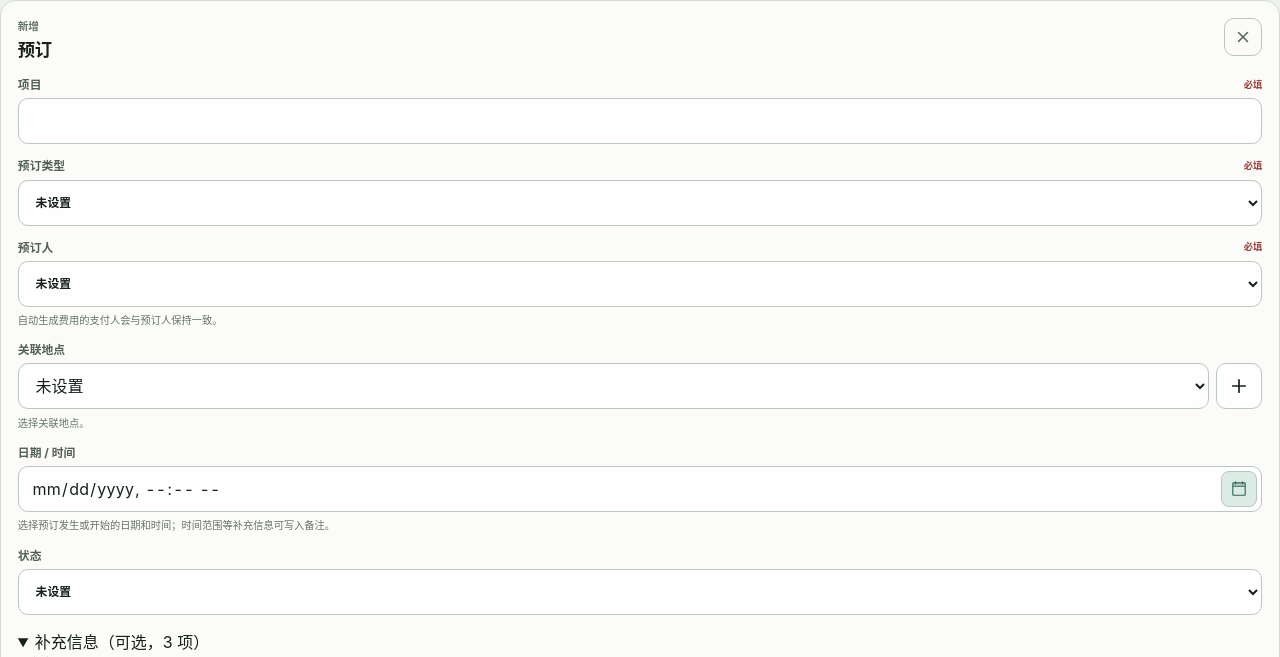
RecordForm 地点快捷创建 › 预订创建地点后立即加入选项并自动选中
Click the button named "新增地点并选为关联地点". click: (1239, 386)
box: x1=1216 y1=363 x2=1262 y2=410
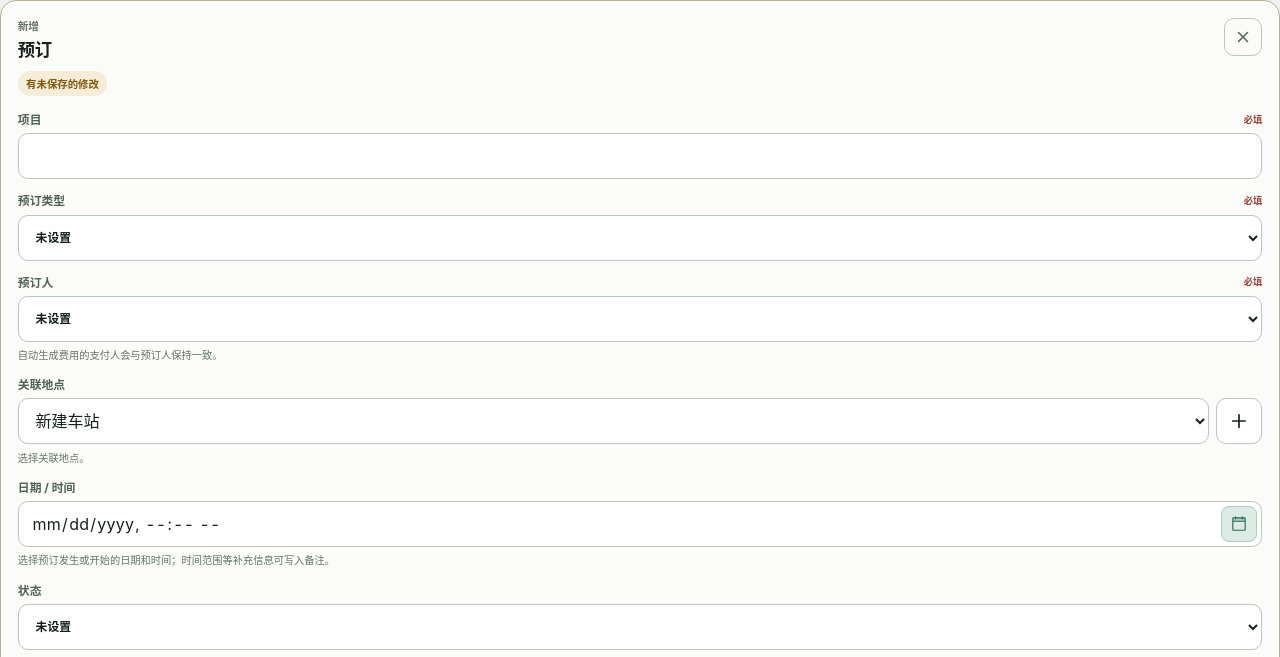
Now the dropdown labelled "关联地点" shows "新建车站", box x1=18 y1=398 x2=1209 y2=444
